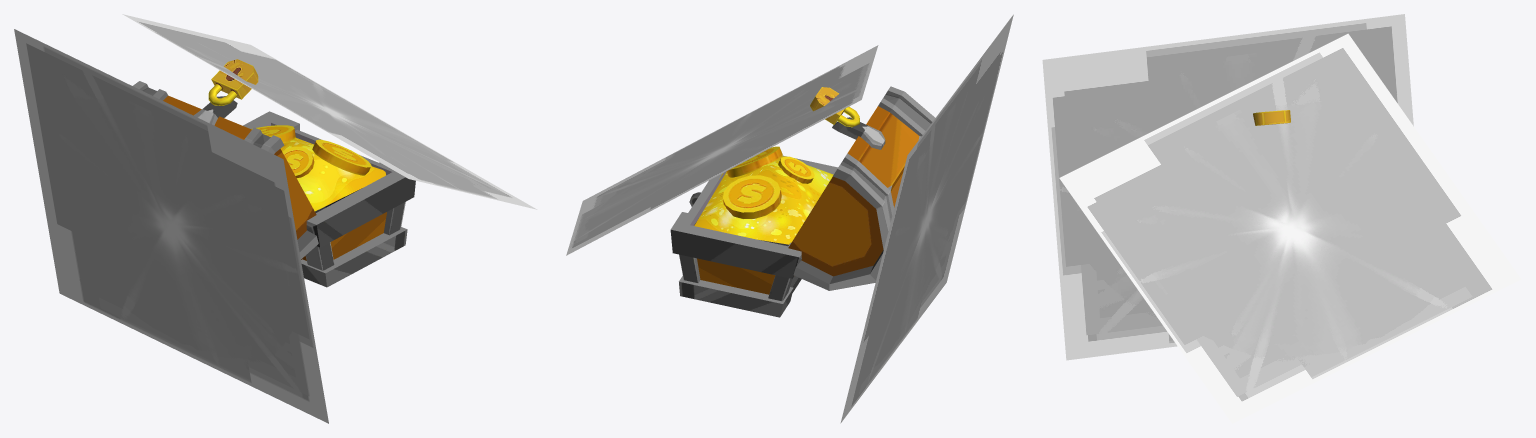
Rendered from CashPrizeItem.fbx.
The picture shows the model from 3 angles, left to right: view 1: azimuth 30°, elevation 25°; view 2: azimuth 150°, elevation 25°; view 3: azimuth 270°, elevation 25°; orthographic projection. The views are drawn at different scales.
Parts seen in each view (by area): view 1: RaysPlane (2), RaysPlane, Box015, Chest001, Cash_plane, bottom chest002, lock002, Cash_coin 2, Cash_coin 3; view 2: RaysPlane (2), Chest001, RaysPlane, Box015, Cash_plane, bottom chest002, Cash_coin, lock002, Cash_coin 2, Cash_coin 3; view 3: RaysPlane, RaysPlane (2), lock002.
Boxes of the visible parts, x1,y1,x2,y2 form: RaysPlane (2): (14, 29, 328, 423); RaysPlane: (122, 14, 537, 209); Box015: (243, 111, 415, 287); Chest001: (133, 81, 318, 259); Cash_plane: (280, 137, 385, 211); bottom chest002: (295, 129, 405, 270); lock002: (208, 59, 258, 105); Cash_coin 2: (312, 139, 371, 175); Cash_coin 3: (282, 146, 314, 177); RaysPlane (2): (840, 14, 1013, 423); Chest001: (788, 86, 935, 290); RaysPlane: (566, 45, 878, 255); Box015: (670, 155, 837, 317); Cash_plane: (694, 156, 833, 244); bottom chest002: (679, 173, 801, 301); Cash_coin: (722, 175, 781, 218); lock002: (810, 87, 859, 127); Cash_coin 2: (726, 146, 782, 177); Cash_coin 3: (778, 156, 814, 183); RaysPlane: (1059, 33, 1521, 423); RaysPlane (2): (1042, 14, 1413, 360); lock002: (1253, 110, 1290, 125).
Bounding box in the file's own units: 21.22 × 14.78 × 21.4.
Materials: 3 (3 with a texture image).
